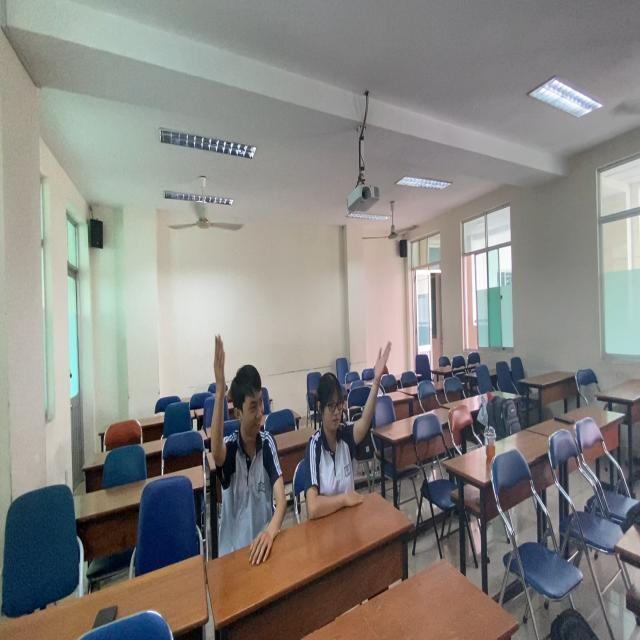raise_hand: (202, 320, 289, 553), (312, 336, 396, 523)
